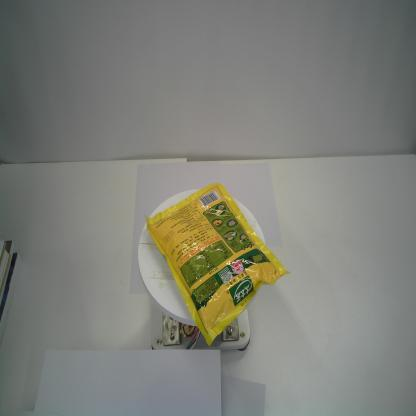Seasoner: (145, 181, 290, 346)
